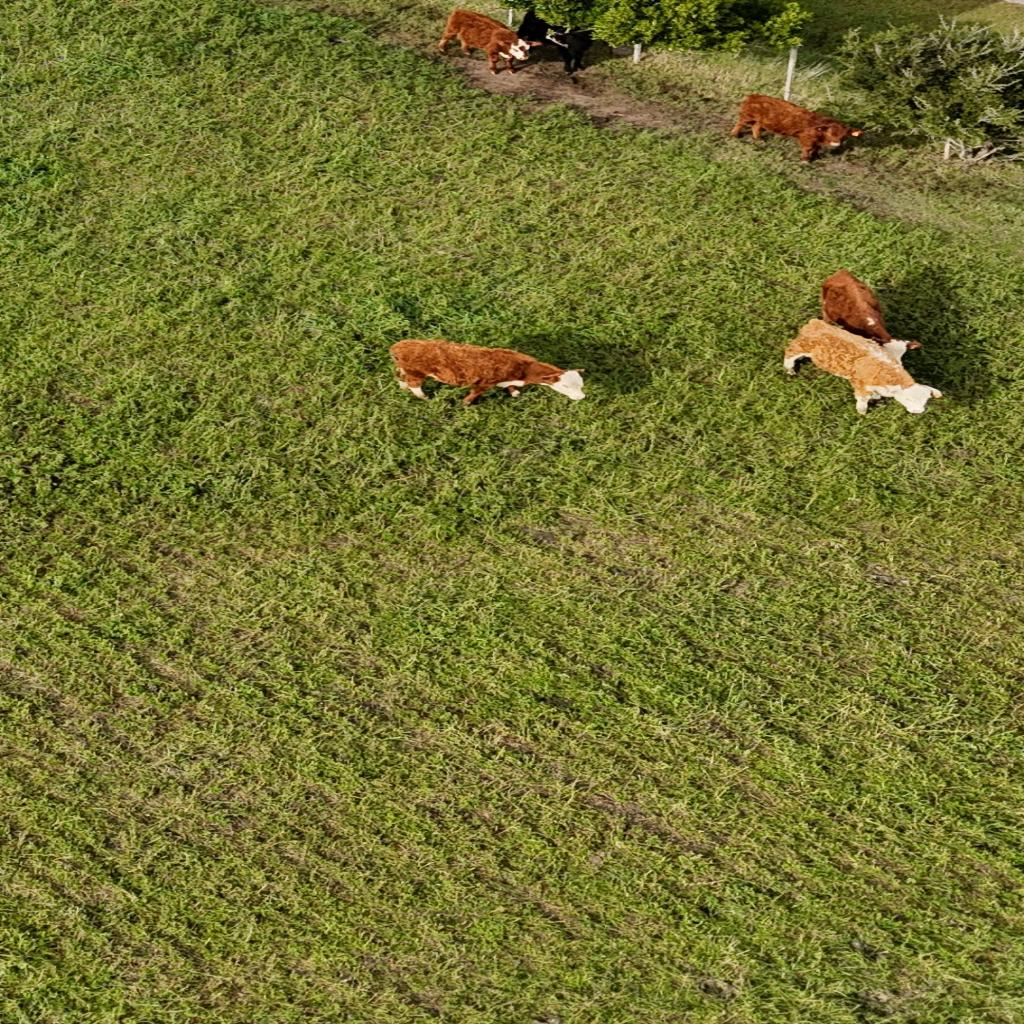cow: (782, 320, 944, 418), (387, 341, 585, 409), (722, 87, 864, 166), (810, 267, 926, 356), (436, 8, 540, 78)
